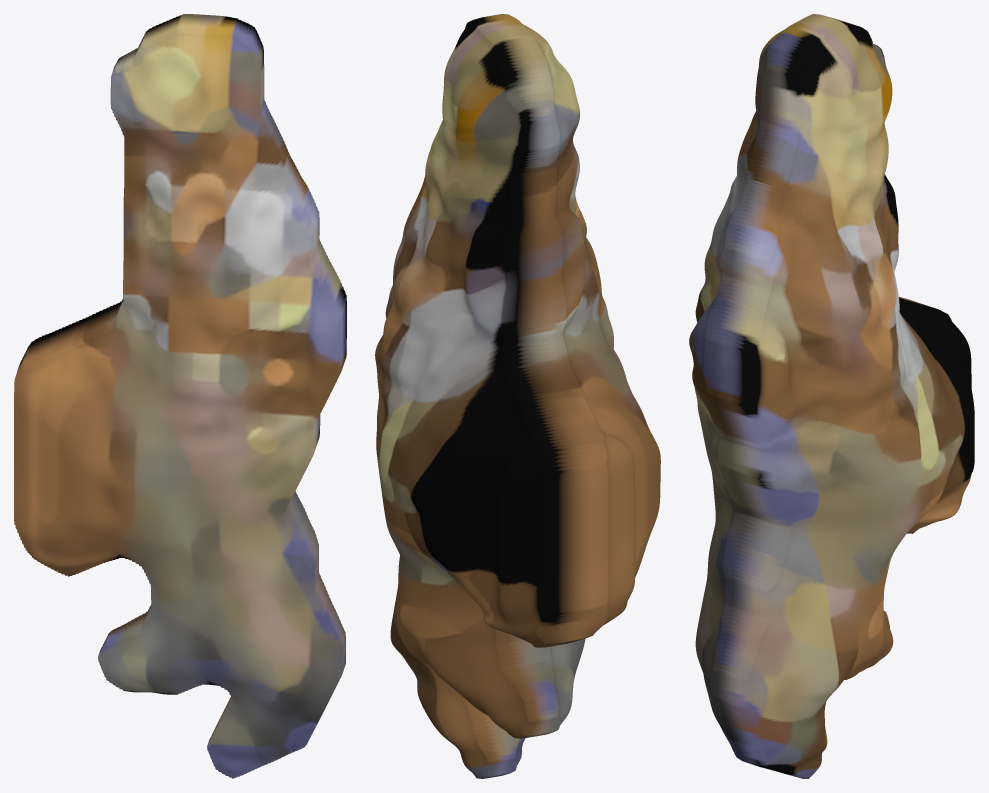
File: soviet_engineer.glb
3 views of the same model, side by side, from view 1: azimuth 30°, elevation 25°; view 2: azimuth 150°, elevation 25°; view 3: azimuth 270°, elevation 25° (orthographic). The views are drawn at different scales.
Parts seen in each view (by area): view 1: soviet_engineer; view 2: soviet_engineer; view 3: soviet_engineer.
Boxes of the visible parts, bbox=[...] form: soviet_engineer: bbox=[14, 14, 346, 778]; soviet_engineer: bbox=[375, 14, 660, 778]; soviet_engineer: bbox=[689, 14, 974, 778].
Bounding box in the file's own units: 0.8352 × 2.23 × 0.7776.
